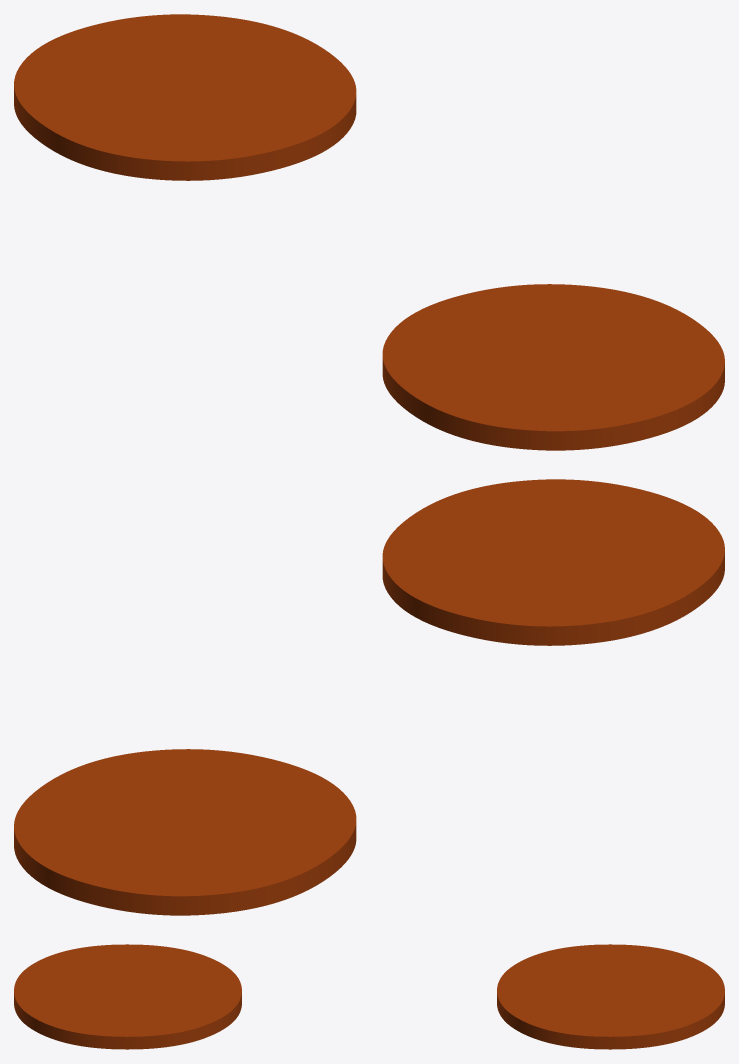
Rendered from colon.obj.
The picture shows the model from 3 angles, top to bottom: view 1: azimuth 30°, elevation 25°; view 2: azimuth 150°, elevation 25°; view 3: azimuth 270°, elevation 25°; orthographic projection. The views are drawn at different scales.
Parts seen in each view (by area): view 1: Text_CUText; view 2: Text_CUText; view 3: Text_CUText.
Part boxes in pixels (box(x1,y1,x2,y2)): Text_CUText: box(14, 14, 724, 450); Text_CUText: box(14, 479, 724, 915); Text_CUText: box(14, 944, 724, 1049).
Size of the model in its own units: 0.3126 by 0.02 by 1.02.
